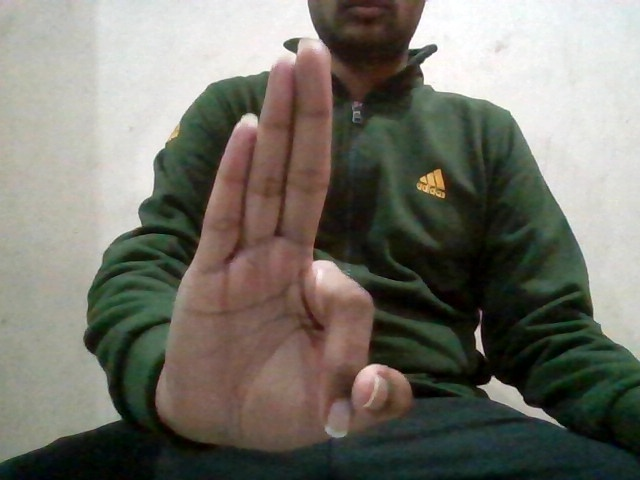F: (162, 38, 412, 447)
